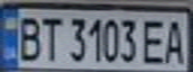0: (103, 15, 121, 63)
1: (84, 15, 103, 62)
3: (63, 14, 87, 62), (118, 16, 142, 64)
A: (160, 16, 190, 65)
B: (12, 12, 45, 62)
E: (139, 16, 172, 65)
T: (36, 12, 63, 62)
